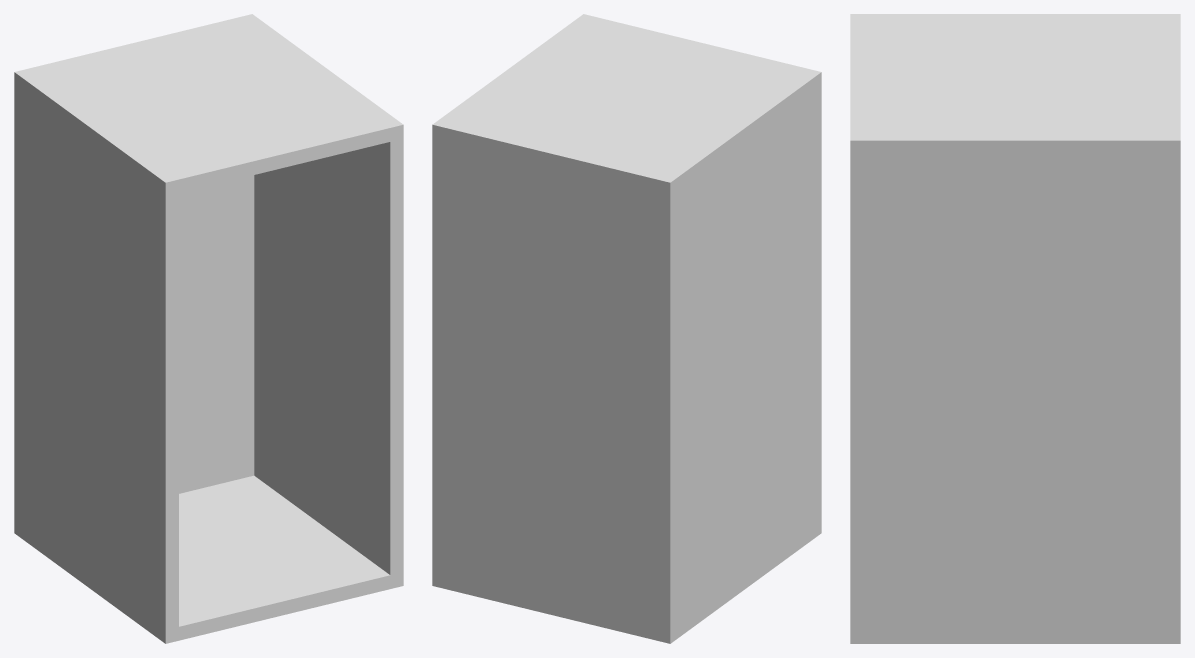
Rendered from Itr_Shelf1_Half_Body_01.FBX.
3 views of the same model, side by side, from view 1: azimuth 30°, elevation 25°; view 2: azimuth 150°, elevation 25°; view 3: azimuth 270°, elevation 25° (orthographic). The views are drawn at different scales.
Visible parts, largest first — view 1: Itr_Shelf1_Half_Body_01; view 2: Itr_Shelf1_Half_Body_01; view 3: Itr_Shelf1_Half_Body_01.
Part boxes in pixels (box(x1,y1,x2,y2)): Itr_Shelf1_Half_Body_01: box(14, 14, 403, 643); Itr_Shelf1_Half_Body_01: box(432, 14, 821, 643); Itr_Shelf1_Half_Body_01: box(850, 14, 1180, 643).
Bounding box in the file's own units: 22.95 × 42.5 × 25.26.
